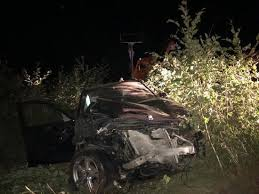car: (53, 65, 206, 183)
